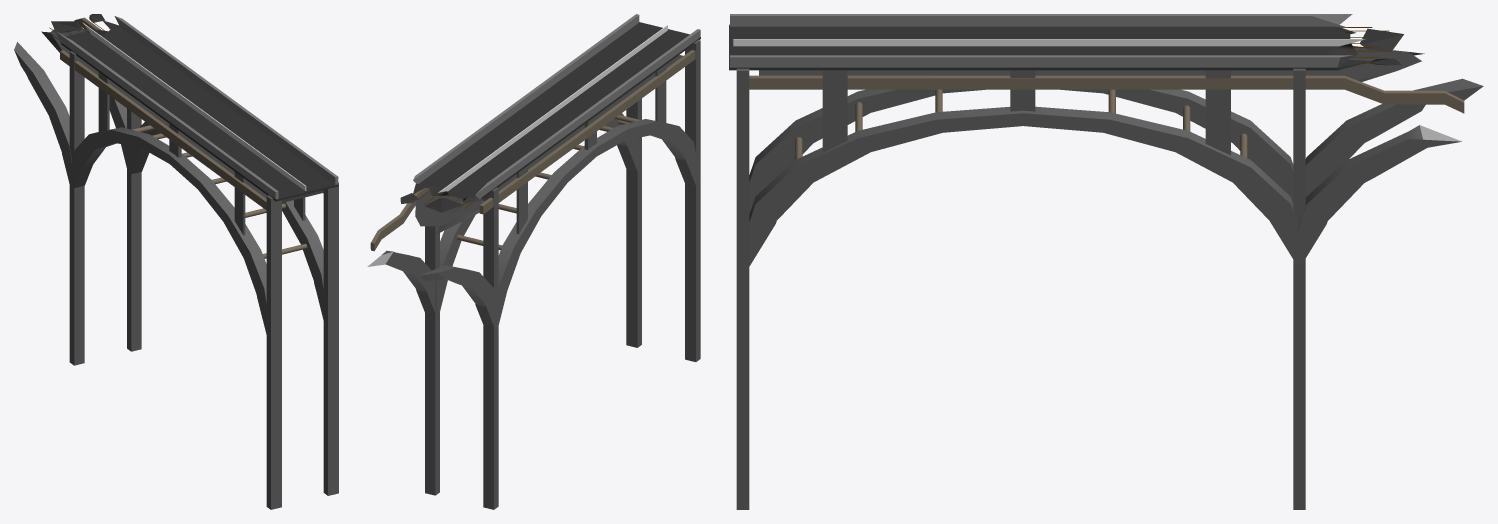
The model's file is BrokenBridge.fbx.
The picture shows the model from 3 angles, left to right: view 1: azimuth 30°, elevation 25°; view 2: azimuth 150°, elevation 25°; view 3: azimuth 270°, elevation 25°; orthographic projection. The views are drawn at different scales.
Parts seen in each view (by area): view 1: polySurface63; view 2: polySurface63; view 3: polySurface63.
Boxes of the visible parts, <box> form: polySurface63: <box>14,14,338,509</box>; polySurface63: <box>367,14,700,509</box>; polySurface63: <box>729,14,1483,509</box>.
Size of the model in its own units: 4.46 by 19.82 by 30.08.
